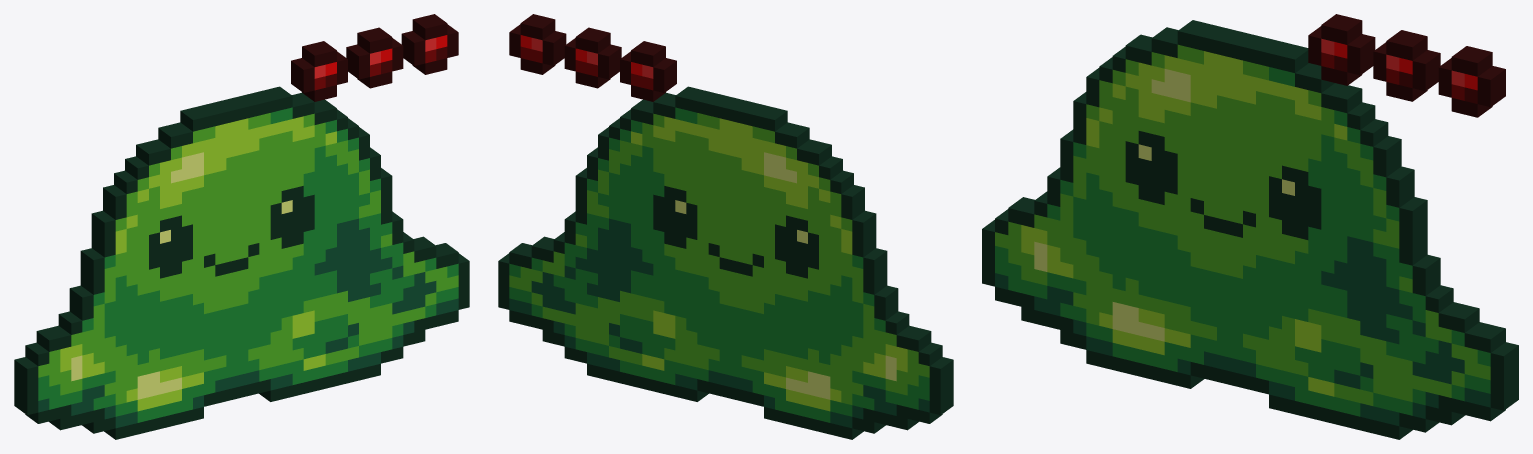
The model's file is Slime_Not_Detected_03.obj.
3 views of the same model, side by side, from view 1: azimuth 30°, elevation 25°; view 2: azimuth 150°, elevation 25°; view 3: azimuth 330°, elevation 25° (orthographic). The views are drawn at different scales.
Bounding box in the file's own units: 4 × 2.9 × 0.2.
Materials: 1 (1 with a texture image).
